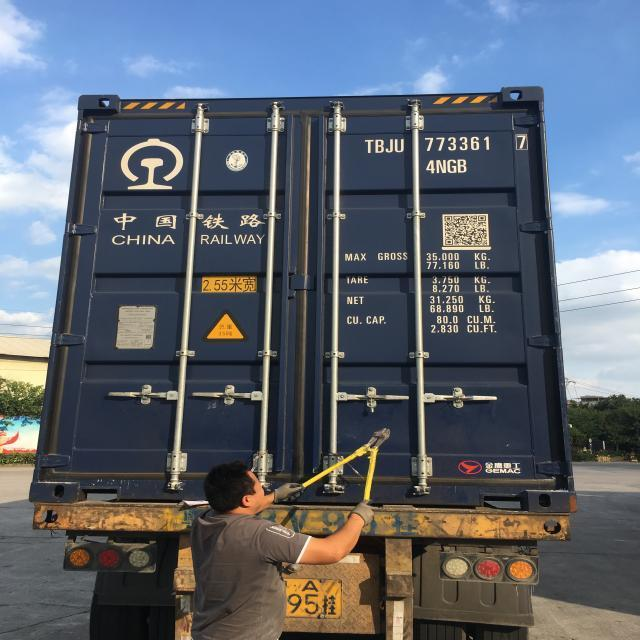ISO: (424, 157, 470, 175)
container_number: (370, 134, 532, 153)
